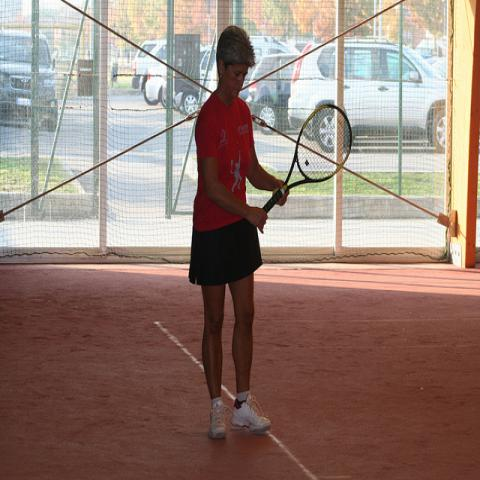car: (286, 38, 446, 154), (198, 43, 298, 105), (0, 31, 57, 130), (247, 52, 301, 136), (137, 38, 168, 108), (130, 40, 160, 88), (174, 92, 200, 117)
truck: (286, 42, 446, 154)
